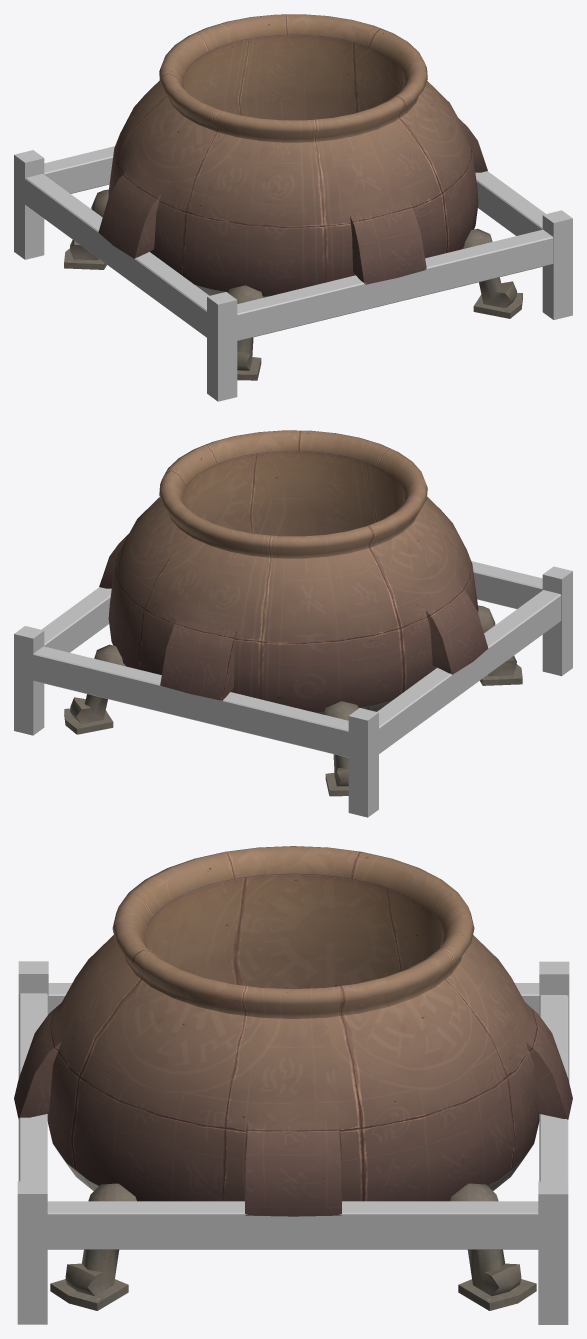
Rendered from prop_cauldron.fbx.
3 renders of one model, top to bottom at view 1: azimuth 30°, elevation 25°; view 2: azimuth 150°, elevation 25°; view 3: azimuth 270°, elevation 25°, orthographic. The views are drawn at different scales.
Parts seen in each view (by area): view 1: prop_cauldron; view 2: prop_cauldron; view 3: prop_cauldron.
Part boxes in pixels (x1,y1,x2,y2): prop_cauldron: [14, 14, 572, 401]; prop_cauldron: [14, 430, 572, 817]; prop_cauldron: [14, 846, 572, 1324].
Size of the model in its own units: 758 by 435 by 758.
